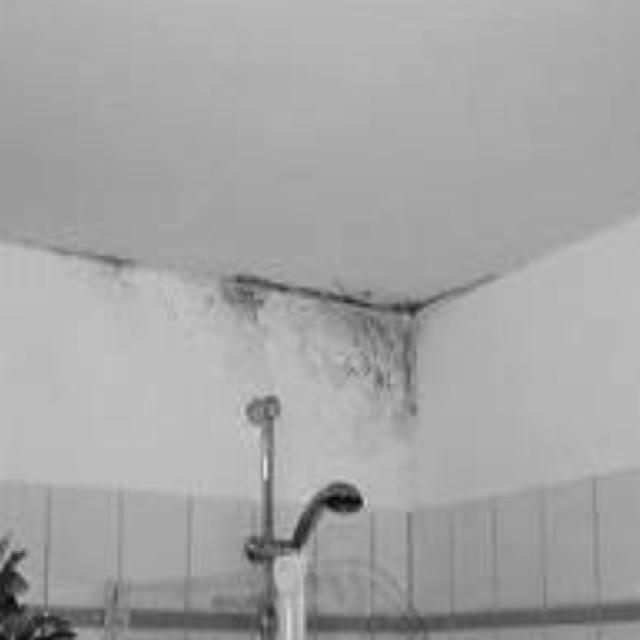stain marks: (44, 228, 422, 484)
